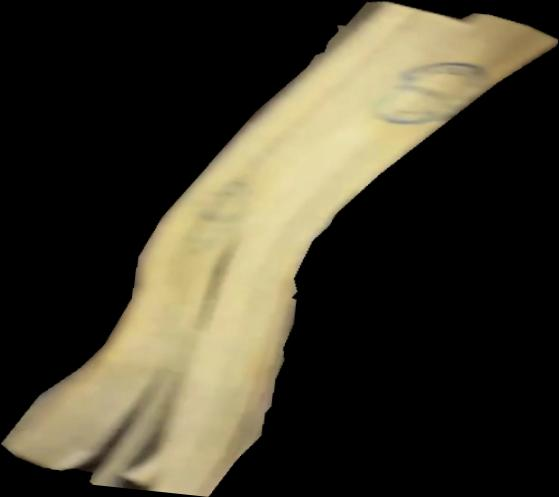backward: (1, 1, 559, 497)
